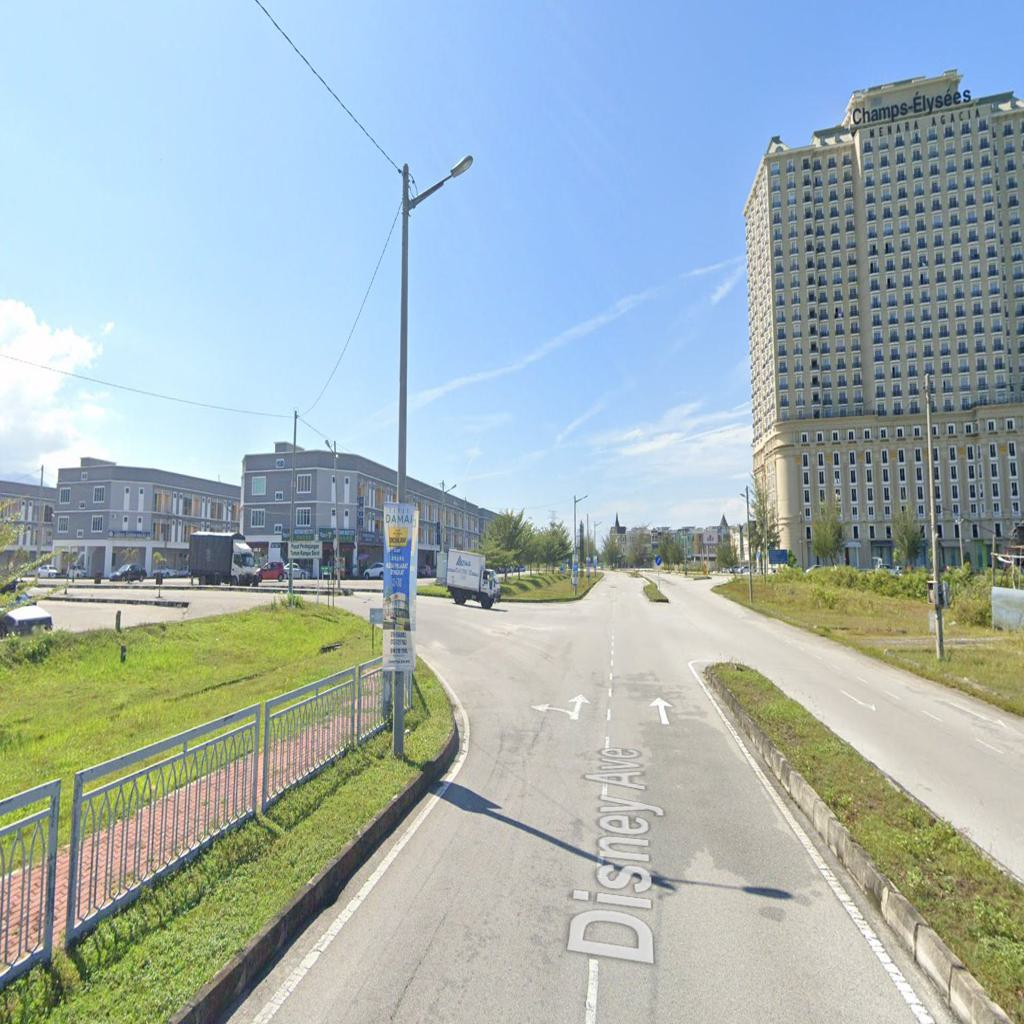Junction: (317, 538, 619, 774)
